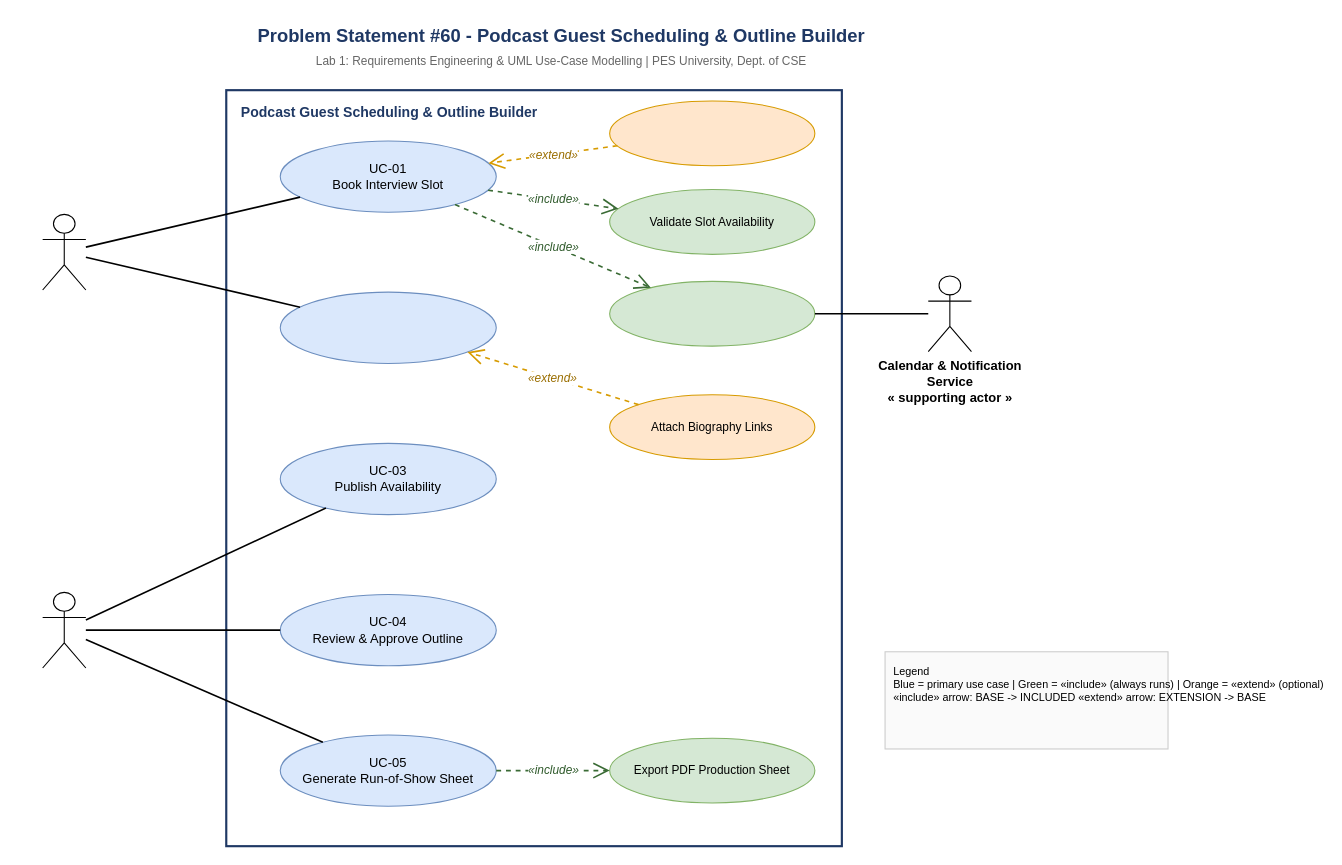
The diagram is 1342 pixels wide and 865 high, and some of its shapes have lost their labels. The shapes that lost their labels are listed below. From the top down, each one's centre as x and y in pixels, then its label:
pixel 712 133: Request Reschedule
pixel 64 251: Podcast Guest
pixel 387 327: UC-02 Submit Talking-Point Outline
pixel 712 313: Send Booking Notification
pixel 64 629: Show Host
